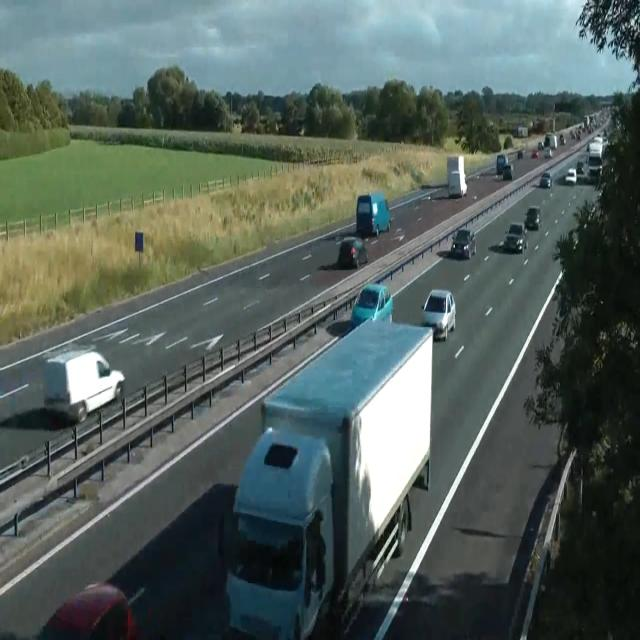bus: (41, 581, 138, 639), (350, 282, 394, 331), (337, 237, 369, 270), (450, 228, 476, 258), (524, 206, 540, 230), (540, 170, 552, 188), (565, 167, 577, 184), (502, 163, 512, 180), (576, 160, 584, 174), (544, 148, 552, 158), (559, 133, 565, 145), (297, 126, 305, 135), (531, 150, 539, 158), (517, 149, 523, 159), (538, 140, 544, 150)
jeep: (43, 347, 125, 423), (421, 288, 455, 340), (504, 222, 526, 252), (586, 152, 602, 180), (495, 153, 507, 174)
minibus: (224, 316, 434, 638), (356, 192, 390, 236), (446, 155, 467, 197), (544, 132, 558, 150), (518, 126, 528, 138)
